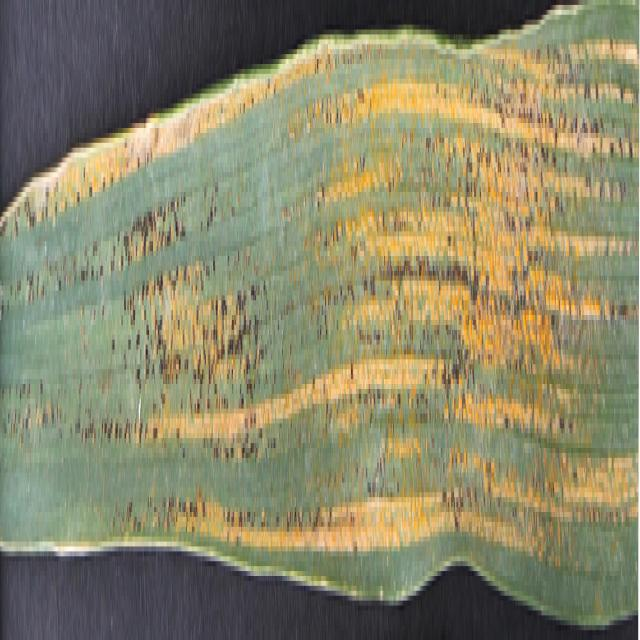leaf rust: (0, 5, 640, 596)
